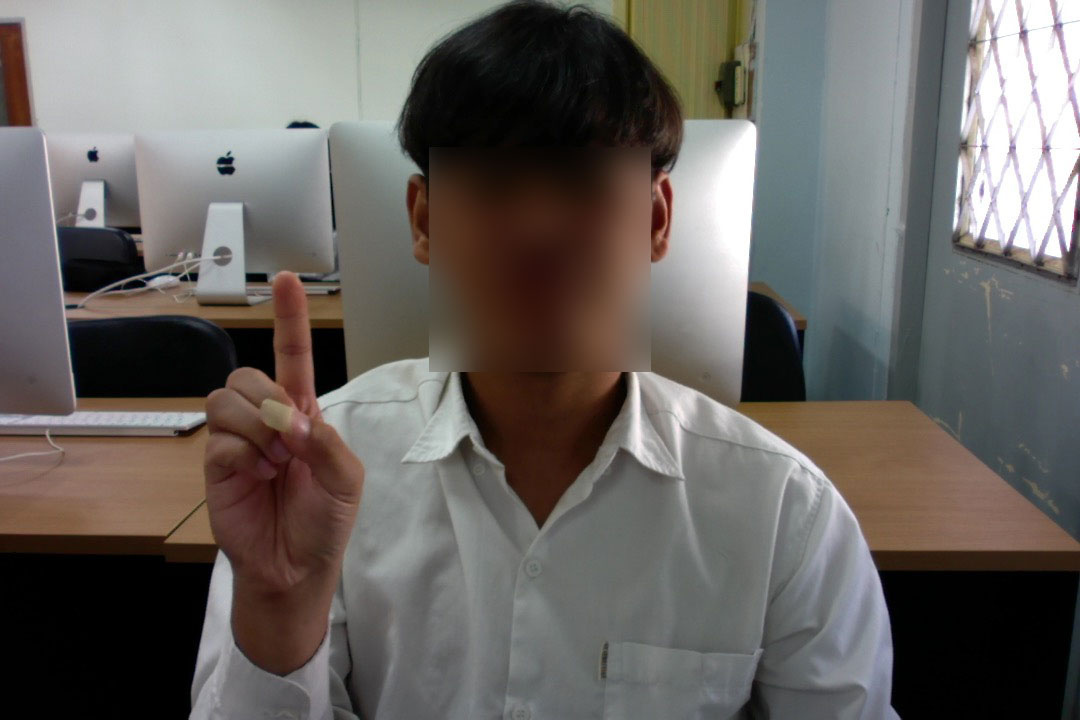dor: (193, 260, 379, 591)
